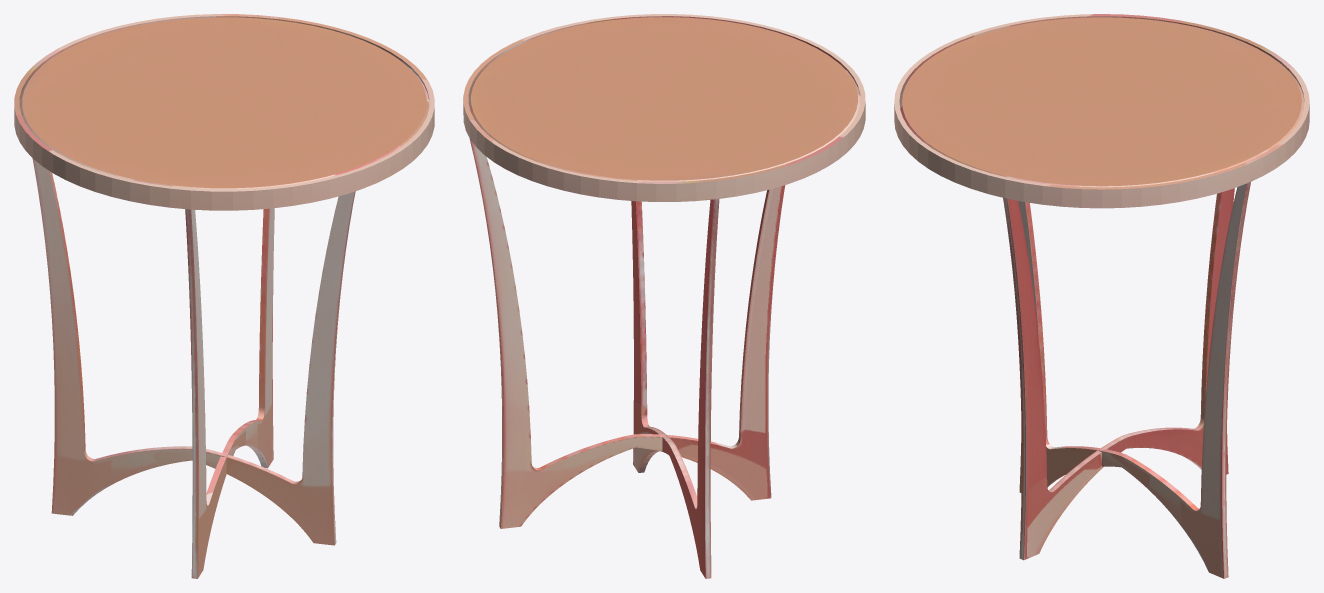
The model's file is edited_mesh.glb.
3 renders of one model, left to right at view 1: azimuth 30°, elevation 25°; view 2: azimuth 150°, elevation 25°; view 3: azimuth 270°, elevation 25°, orthographic. The views are drawn at different scales.
Parts seen in each view (by area): view 1: solid_001_wire; view 2: solid_001_wire; view 3: solid_001_wire.
Boxes of the visible parts, left/top/right/bottom form: solid_001_wire: left=14, top=14, right=434, bottom=578; solid_001_wire: left=463, top=14, right=865, bottom=578; solid_001_wire: left=894, top=14, right=1309, bottom=578.
Bounding box in the file's own units: 1.23 × 1.38 × 1.23.
1 material, 1 textured.
